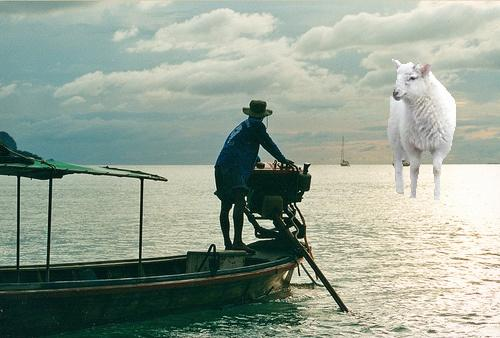tampered: (388, 60, 456, 200)
